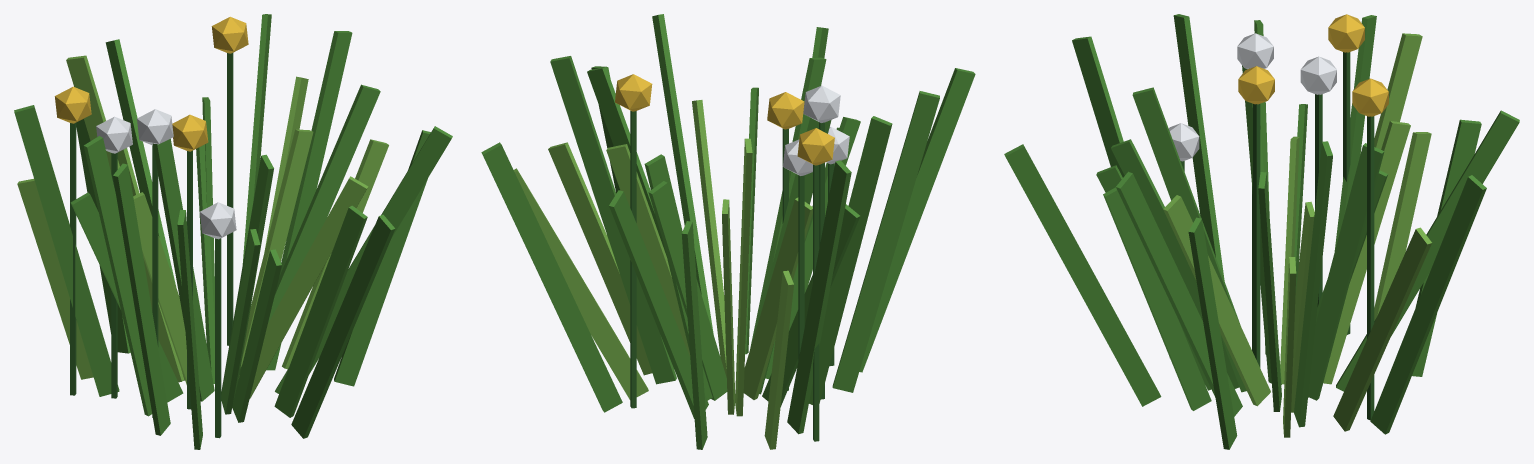
File: buisson_prairie_1.glb
3 renders of one model, left to right at view 1: azimuth 30°, elevation 25°; view 2: azimuth 150°, elevation 25°; view 3: azimuth 270°, elevation 25°, orthographic. The views are drawn at different scales.
Visible parts, largest first — view 1: herbe_feuille.002, herbe_feuille_claire.004, herbe_feuille_sombre.002, herbe_jaune.002, herbe_blanc.002; view 2: herbe_feuille.002, herbe_feuille_claire.004, herbe_feuille_sombre.002, herbe_jaune.002, herbe_blanc.002; view 3: herbe_feuille.002, herbe_feuille_claire.004, herbe_feuille_sombre.002, herbe_jaune.002, herbe_blanc.002.
Boxes of the visible parts, x1,y1,x2,y2 form: herbe_feuille.002: [14, 14, 452, 449]; herbe_feuille_claire.004: [17, 55, 388, 398]; herbe_feuille_sombre.002: [70, 53, 233, 438]; herbe_jaune.002: [54, 16, 248, 151]; herbe_blanc.002: [96, 109, 236, 239]; herbe_feuille.002: [481, 14, 975, 449]; herbe_feuille_claire.004: [513, 100, 812, 449]; herbe_feuille_sombre.002: [630, 110, 834, 441]; herbe_jaune.002: [615, 74, 834, 165]; herbe_blanc.002: [782, 85, 849, 175]; herbe_feuille.002: [1004, 14, 1519, 449]; herbe_feuille_claire.004: [1163, 33, 1431, 437]; herbe_feuille_sombre.002: [1180, 52, 1374, 420]; herbe_jaune.002: [1238, 14, 1388, 116]; herbe_blanc.002: [1168, 33, 1336, 161].
Bounding box in the file's own units: 0.6664 × 0.6195 × 0.8387.
